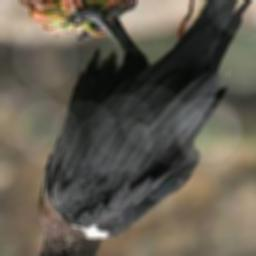Crow: (16, 0, 256, 256)
